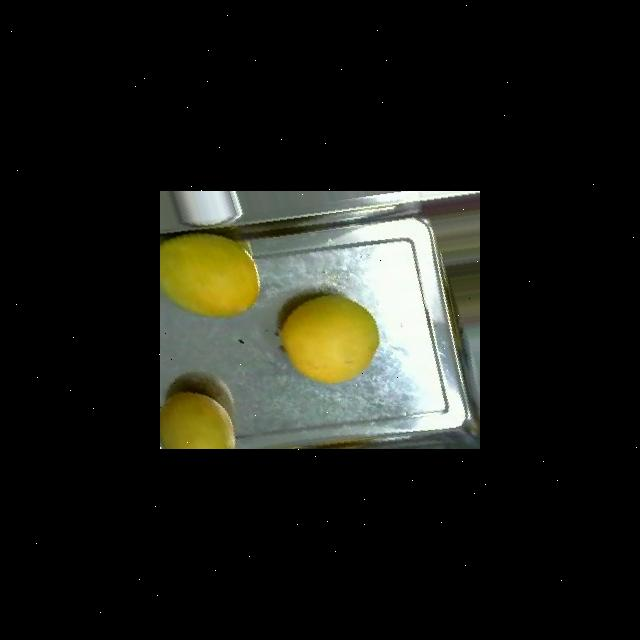Mango: (279, 294, 379, 385), (160, 233, 260, 319), (160, 392, 236, 449)
